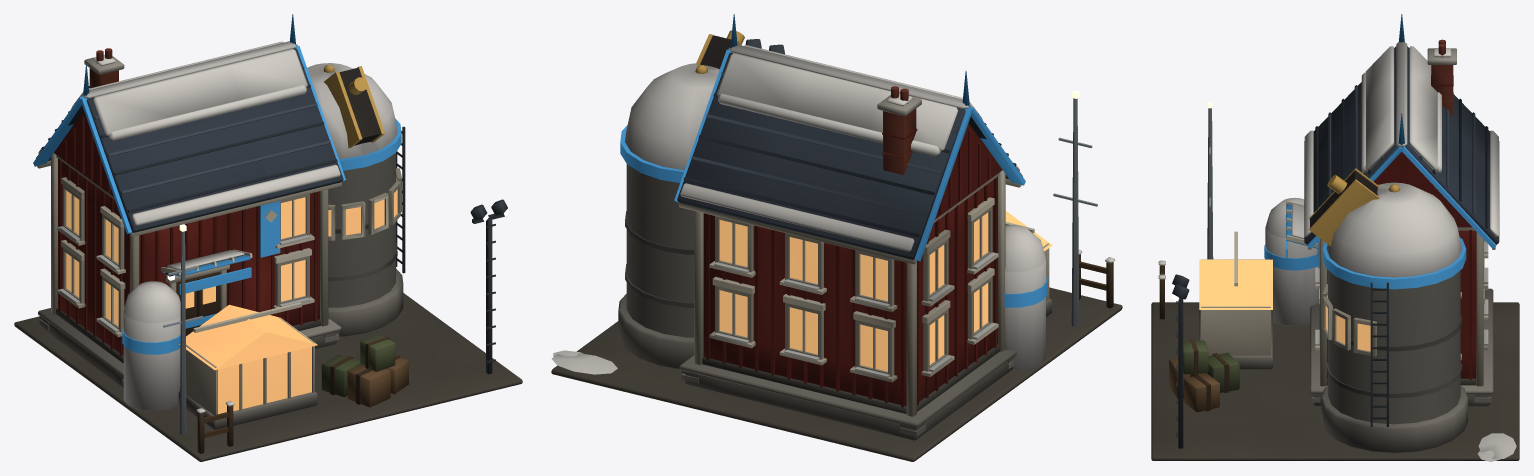
The model's file is lab.glb.
3 renders of one model, left to right at view 1: azimuth 30°, elevation 25°; view 2: azimuth 150°, elevation 25°; view 3: azimuth 270°, elevation 25°, orthographic. The views are drawn at different scales.
Parts seen in each view (by area): view 1: lab_root_matte, lab_root_glass, lab_root_trim, lab_root_metal; view 2: lab_root_matte, lab_root_glass, lab_root_trim, lab_root_metal; view 3: lab_root_matte, lab_root_metal, lab_root_trim, lab_root_glass.
Part boxes in pixels (box(x1,y1,x2,y2)): lab_root_matte: box(14, 41, 522, 461); lab_root_glass: box(66, 178, 397, 414); lab_root_trim: box(33, 14, 401, 354); lab_root_metal: box(163, 65, 507, 434); lab_root_matte: box(551, 35, 1122, 461); lab_root_glass: box(719, 211, 1052, 371); lab_root_trim: box(620, 14, 1047, 307); lab_root_metal: box(695, 30, 1097, 326); lab_root_matte: box(1151, 39, 1519, 461); lab_root_metal: box(1172, 108, 1399, 448); lab_root_trim: box(1264, 14, 1496, 289); lab_root_glass: box(1199, 259, 1370, 351).
Bounding box in the file's own units: 10.57 × 8.94 × 10.
